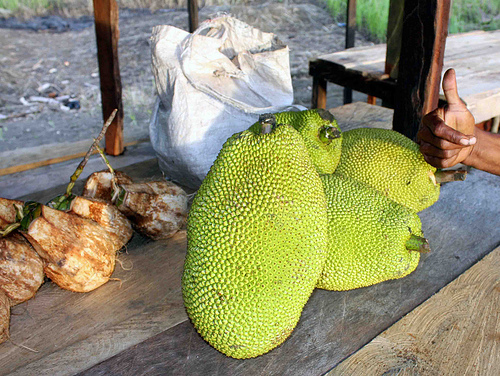jackfruit: (186, 122, 329, 358), (317, 172, 429, 296), (337, 127, 467, 211), (257, 109, 344, 175)
